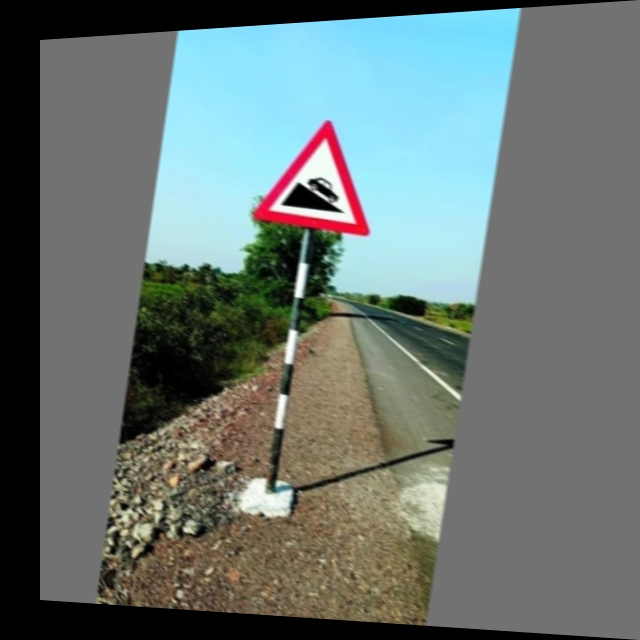Steep_Descent: (254, 108, 378, 236)
